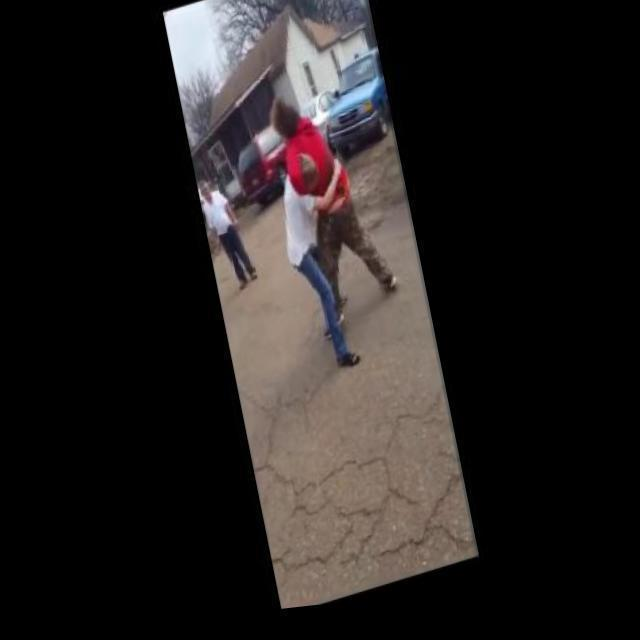fight: (256, 75, 416, 392)
